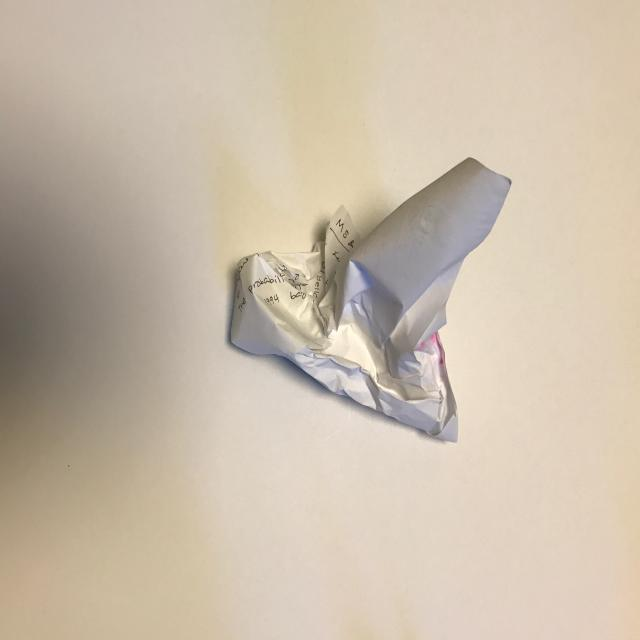paper: (229, 156, 512, 444)
